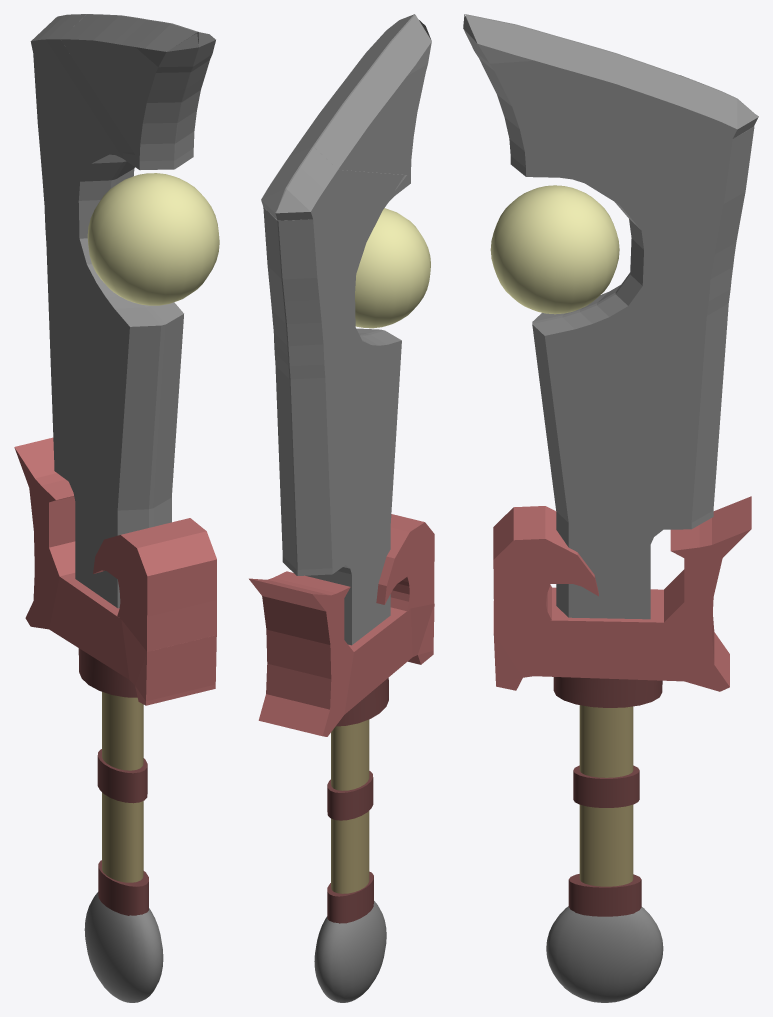
File: WoW-Sword1.fbx
The picture shows the model from 3 angles, left to right: view 1: azimuth 30°, elevation 25°; view 2: azimuth 150°, elevation 25°; view 3: azimuth 270°, elevation 25°; orthographic projection. The views are drawn at different scales.
Visible parts, largest first — view 1: pSphere2; view 2: pSphere2; view 3: pSphere2.
Boxes of the visible parts, bbox=[...] form: pSphere2: bbox=[14, 14, 219, 1002]; pSphere2: bbox=[249, 14, 434, 1002]; pSphere2: bbox=[463, 14, 758, 1002].
Bounding box in the file's own units: 0.7248 × 6.13 × 1.66.
